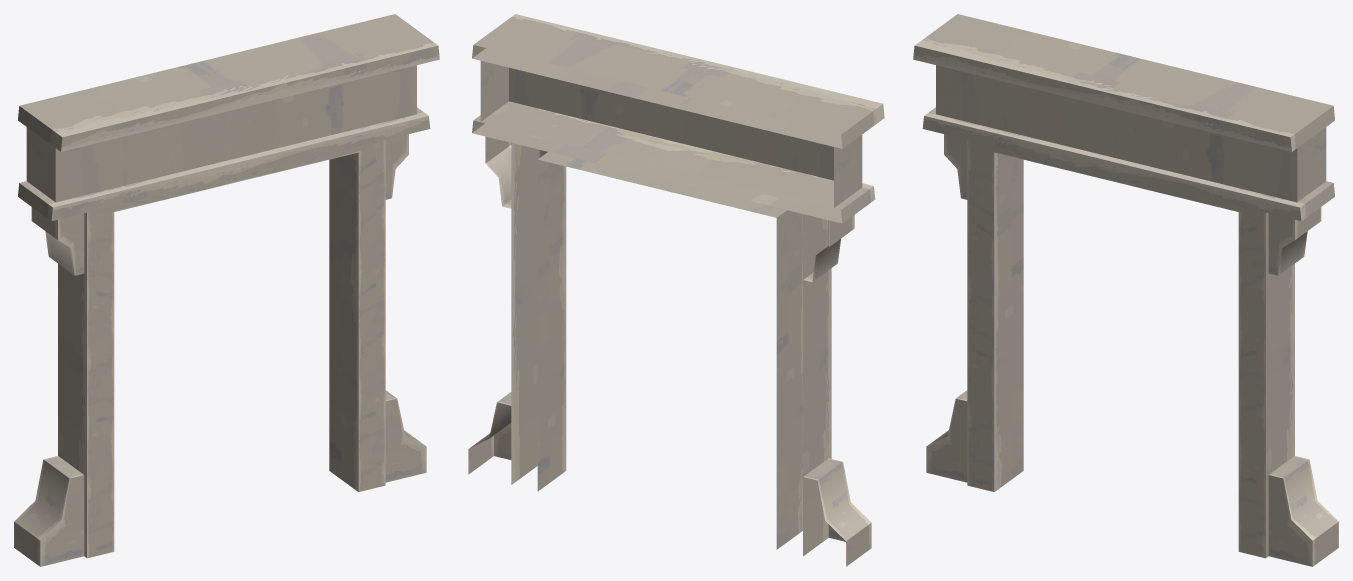
File: MOD_Door_03_framedeco_02_04.fbx
The picture shows the model from 3 angles, left to right: view 1: azimuth 30°, elevation 25°; view 2: azimuth 150°, elevation 25°; view 3: azimuth 330°, elevation 25°; orthographic projection. The views are drawn at different scales.
Parts seen in each view (by area): view 1: MOD_Door_03_framedeco_02_04; view 2: MOD_Door_03_framedeco_02_04; view 3: MOD_Door_03_framedeco_02_04.
Part boxes in pixels (<box>): MOD_Door_03_framedeco_02_04: <box>14,14,439,566</box>; MOD_Door_03_framedeco_02_04: <box>468,14,884,566</box>; MOD_Door_03_framedeco_02_04: <box>913,14,1338,566</box>.
Size of the model in its own units: 306 by 334 by 59.32.
